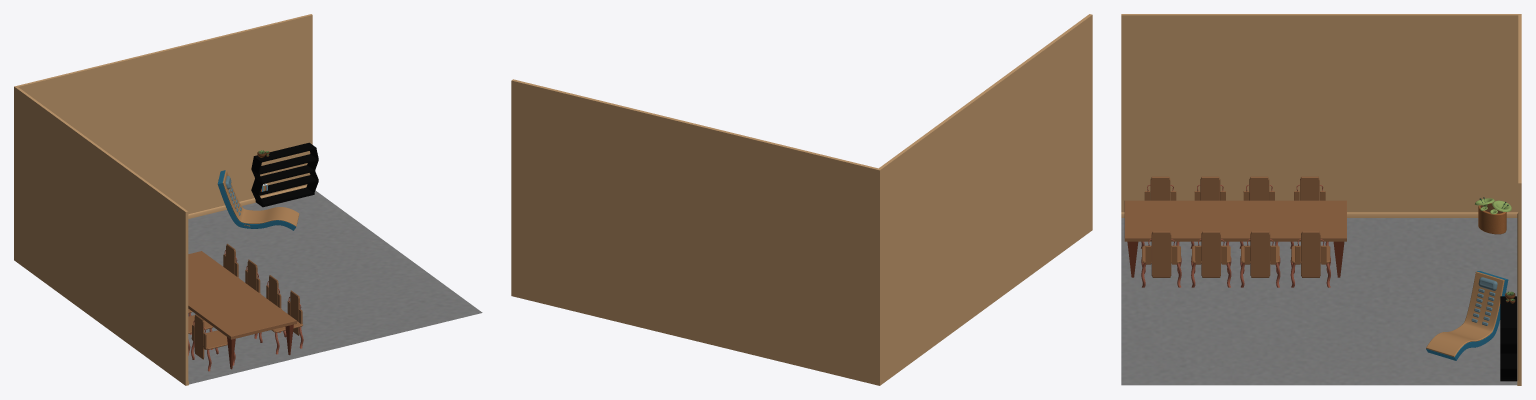
File: Scene1_SKetchfab.fbx
3 renders of one model, left to right at view 1: azimuth 30°, elevation 25°; view 2: azimuth 150°, elevation 25°; view 3: azimuth 270°, elevation 25°, orthographic. The views are drawn at different scales.
Visible parts, largest first — view 1: Book_Group:Book_7; view 2: Book_Group:Book_7; view 3: Book_Group:Book_7.
Part boxes in pixels (x1,y1,x2,y2): Book_Group:Book_7: (14, 14, 482, 385); Book_Group:Book_7: (511, 14, 1092, 385); Book_Group:Book_7: (1121, 14, 1521, 385).
Bounding box in the file's own units: 24 × 13.42 × 24.
8 materials, 7 textured.
